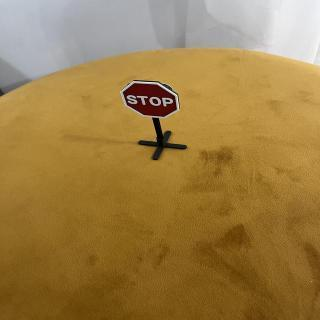sign_stop: (120, 80, 183, 121)
